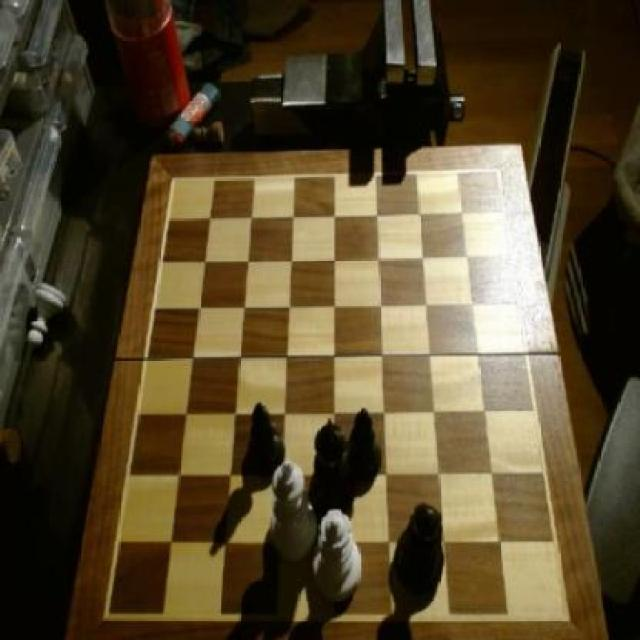bishop: (245, 394, 287, 481), (346, 406, 385, 488)
black-bishop: (309, 411, 353, 519)
black-pawn: (397, 502, 444, 590)
white-bishop: (268, 460, 318, 562)
white-pawn: (312, 502, 364, 600)
